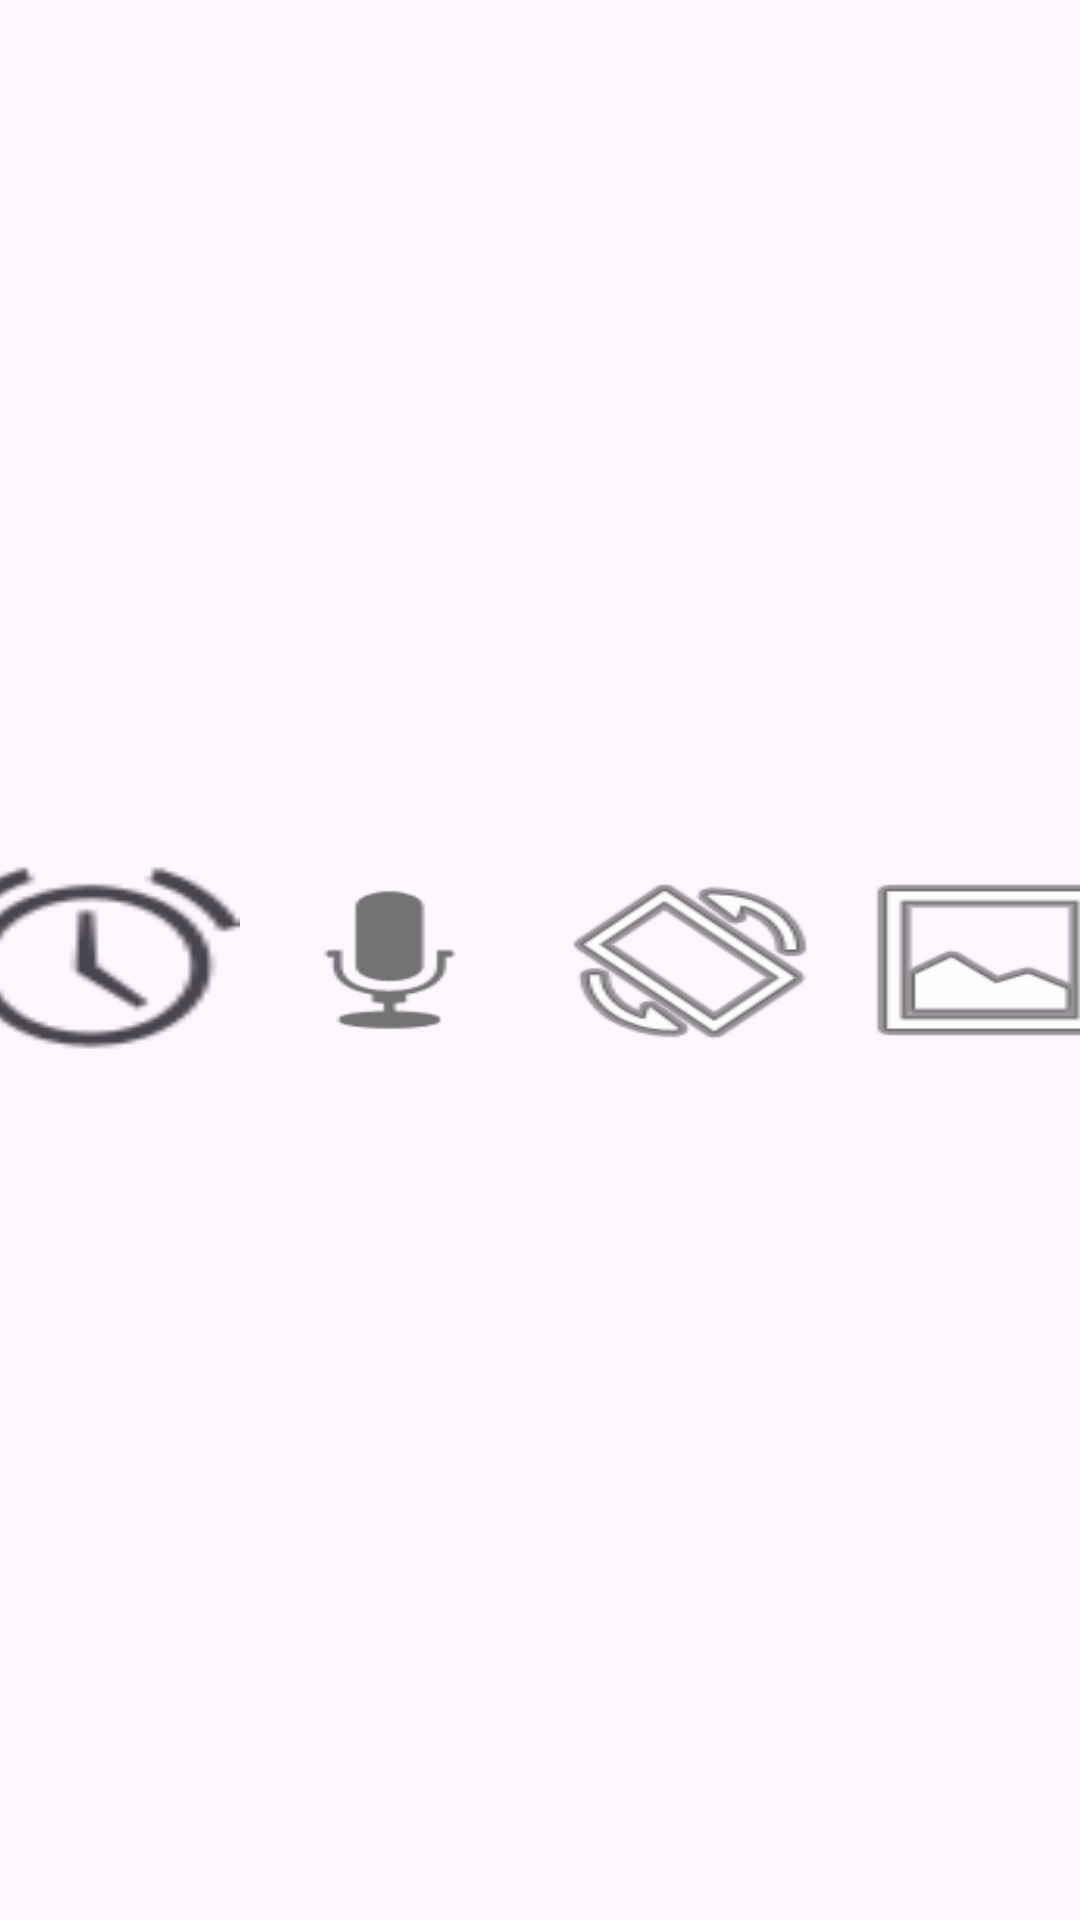

Named icons in this screenshot (1080 × 1920) and their centers, point (x, y):
speak now: point (390, 960)
